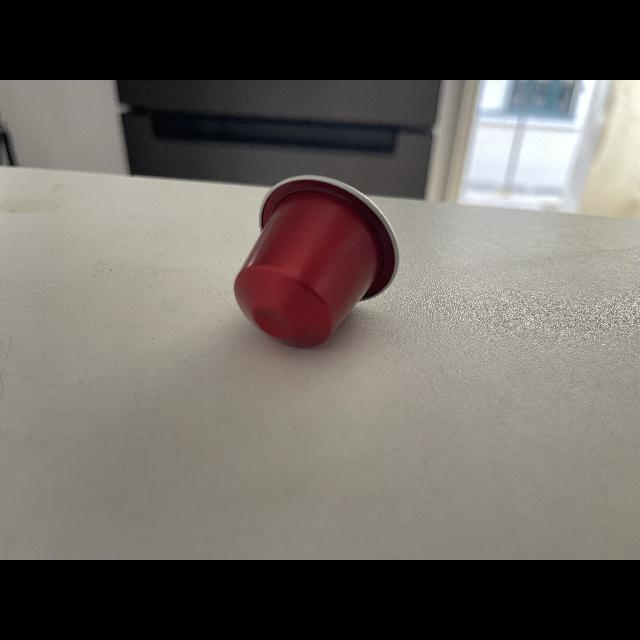intact_capsule: (223, 171, 404, 361)
